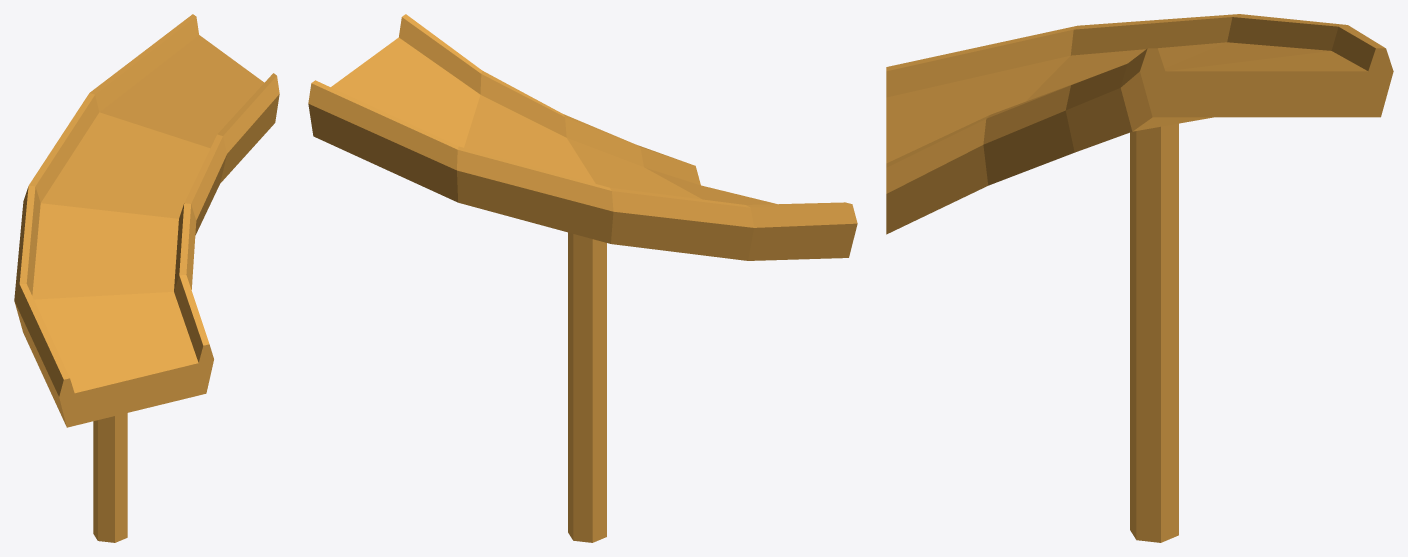
The model's file is scifi-belt-moving-curve-up.glb.
3 views of the same model, side by side, from view 1: azimuth 30°, elevation 25°; view 2: azimuth 150°, elevation 25°; view 3: azimuth 270°, elevation 25° (orthographic). The views are drawn at different scales.
Visible parts, largest first — view 1: belt-moving-curve-up; view 2: belt-moving-curve-up; view 3: belt-moving-curve-up.
Boxes of the visible parts, x1=… form: belt-moving-curve-up: x1=14, y1=14, x2=279, y2=542; belt-moving-curve-up: x1=308, y1=14, x2=857, y2=542; belt-moving-curve-up: x1=886, y1=14, x2=1393, y2=542.
Bounding box in the file's own units: 2 × 2.6 × 2.
